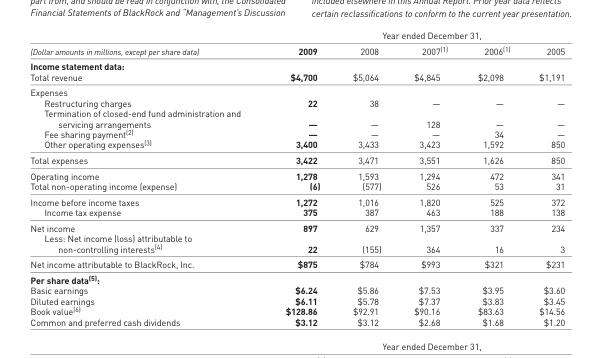table: (29, 29, 564, 326)
table column: (29, 29, 262, 326), (262, 29, 335, 326), (396, 29, 461, 326), (461, 29, 523, 326), (335, 29, 396, 326), (523, 29, 564, 326)
table column header: (29, 29, 564, 58)
table projected row header: (29, 84, 564, 97), (29, 271, 564, 284), (29, 58, 564, 70)
table row: (29, 232, 564, 255), (29, 107, 564, 127), (29, 42, 564, 58), (29, 151, 564, 167), (29, 255, 564, 271), (29, 70, 564, 84), (29, 29, 564, 42), (29, 84, 564, 97), (29, 138, 564, 151), (29, 167, 564, 180), (29, 180, 564, 193), (29, 193, 564, 206), (29, 206, 564, 219), (29, 219, 564, 232), (29, 271, 564, 284), (29, 58, 564, 70), (29, 127, 564, 138), (29, 294, 564, 305), (29, 315, 564, 326), (29, 97, 564, 107), (29, 284, 564, 294), (29, 305, 564, 315)
table spanning cell: (29, 29, 262, 58), (262, 29, 564, 42)
